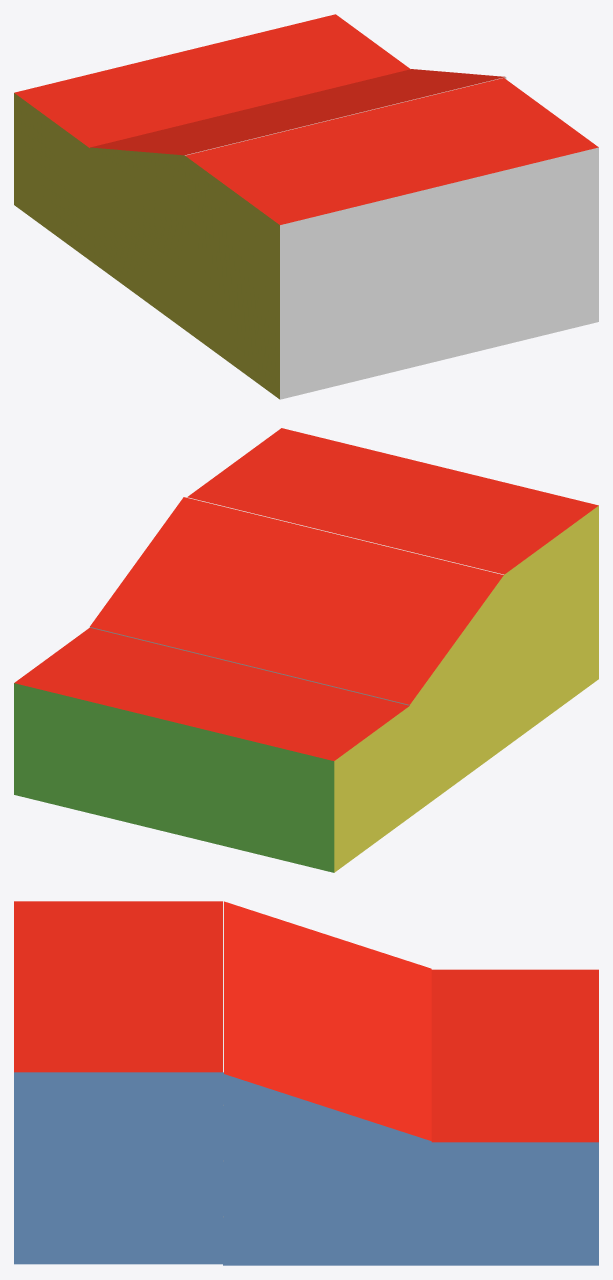
File: simple.dae
3 views of the same model, one above another, from view 1: azimuth 30°, elevation 25°; view 2: azimuth 150°, elevation 25°; view 3: azimuth 270°, elevation 25° (orthographic). The views are drawn at different scales.
Parts seen in each view (by area): view 1: Model; view 2: Model; view 3: Model.
Part boxes in pixels (bbox=[...]): Model: bbox=[14, 14, 598, 399]; Model: bbox=[14, 428, 598, 872]; Model: bbox=[14, 901, 598, 1265].
Bounding box in the file's own units: 2468 × 3536 × 1279.
